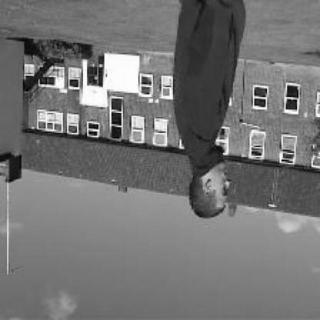other: (77, 51, 146, 121)
